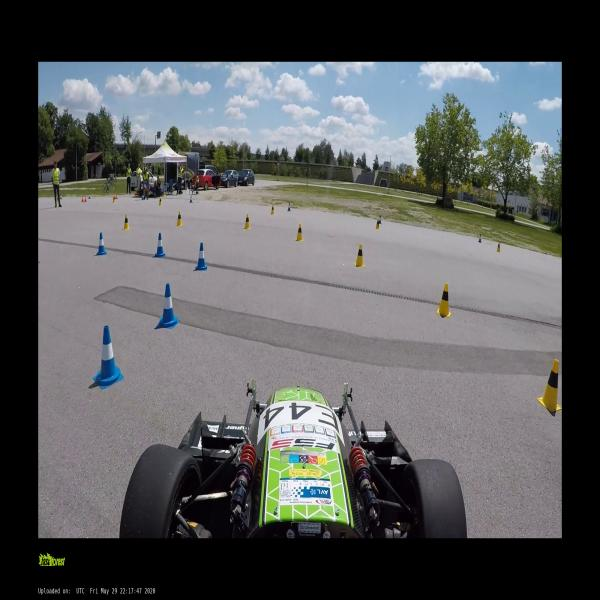blue_cone: (97, 327, 120, 383), (158, 285, 176, 326), (194, 241, 208, 272), (95, 232, 107, 256), (154, 232, 165, 258), (377, 214, 382, 225), (477, 234, 482, 244), (287, 203, 291, 212), (141, 193, 145, 200), (88, 194, 91, 199)
orange_cone: (81, 197, 86, 204), (83, 195, 87, 203)
unknown_cone: (189, 195, 192, 203)
yellow_cone: (539, 358, 561, 416), (434, 283, 451, 319), (353, 244, 366, 269), (294, 223, 304, 243), (242, 214, 252, 230), (175, 210, 183, 228), (122, 214, 130, 231), (495, 243, 501, 253), (270, 205, 275, 215), (158, 196, 162, 206), (376, 219, 379, 230), (112, 195, 116, 203), (162, 191, 167, 197)
